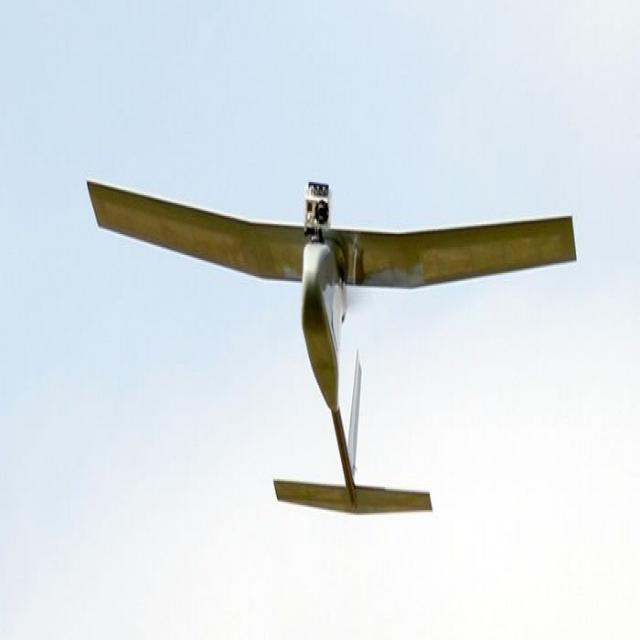iha: (64, 162, 582, 518)
